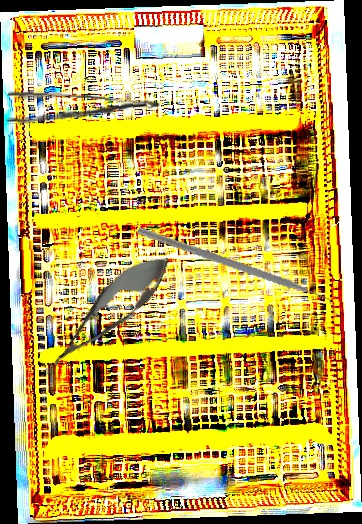Chopper: (136, 190, 339, 355)
Dressing Forceps: (5, 88, 161, 135)
Micro Scissor: (30, 241, 181, 389)
